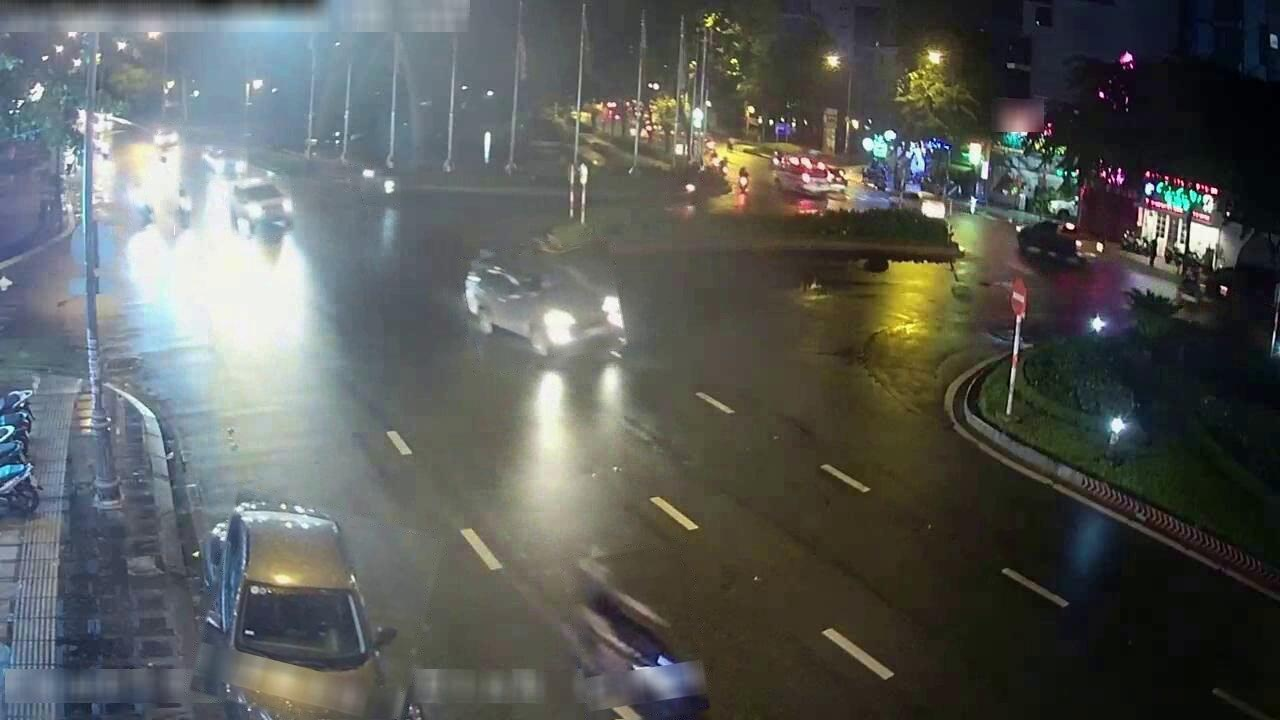Car: (196, 503, 404, 719), (464, 252, 625, 359), (229, 178, 292, 234), (773, 153, 847, 198), (465, 261, 523, 316), (1017, 220, 1081, 263), (203, 146, 247, 180), (152, 126, 181, 152)
Motorcycle: (0, 463, 39, 513), (0, 409, 32, 441), (0, 425, 28, 457), (0, 441, 28, 466)
Motorcyclist: (570, 558, 708, 719), (129, 183, 155, 228), (364, 176, 398, 202), (175, 184, 193, 232), (346, 164, 378, 189), (670, 178, 698, 203)
Pedestrian: (737, 167, 749, 194)
Sign: (1010, 277, 1027, 317)
Traffic light: (1112, 50, 1135, 110)
